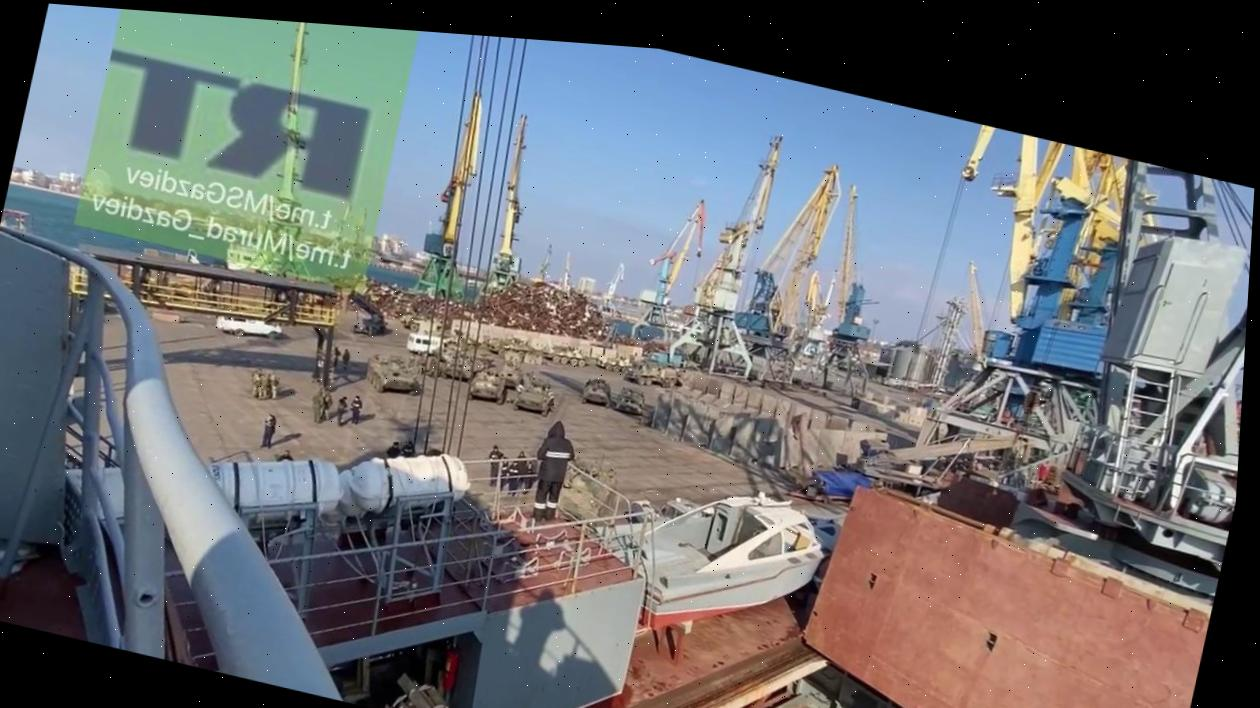person: (522, 416, 581, 528), (482, 443, 505, 488), (258, 412, 278, 452), (502, 459, 522, 498), (307, 388, 328, 425), (314, 387, 336, 422), (244, 365, 262, 403), (345, 394, 365, 427), (255, 369, 272, 404), (332, 395, 350, 428), (266, 374, 281, 405), (384, 439, 402, 462), (399, 438, 417, 460), (329, 344, 343, 370), (339, 348, 351, 371)
tank: (360, 349, 422, 402), (510, 377, 558, 419), (484, 330, 540, 366), (467, 368, 508, 407), (539, 340, 590, 370), (440, 352, 476, 387), (580, 376, 615, 410), (590, 350, 629, 378), (613, 387, 647, 417)
